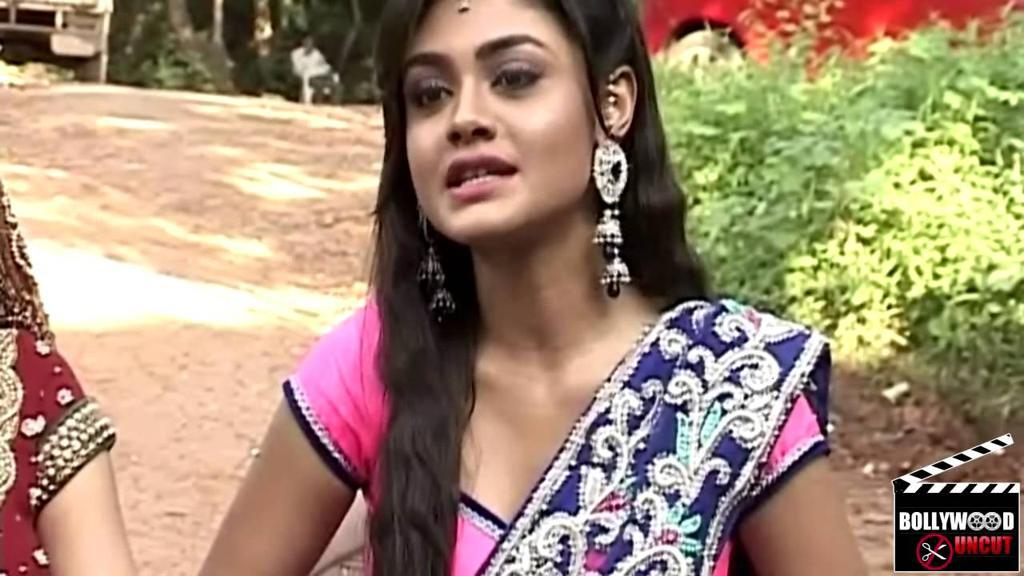face: (397, 1, 595, 233)
